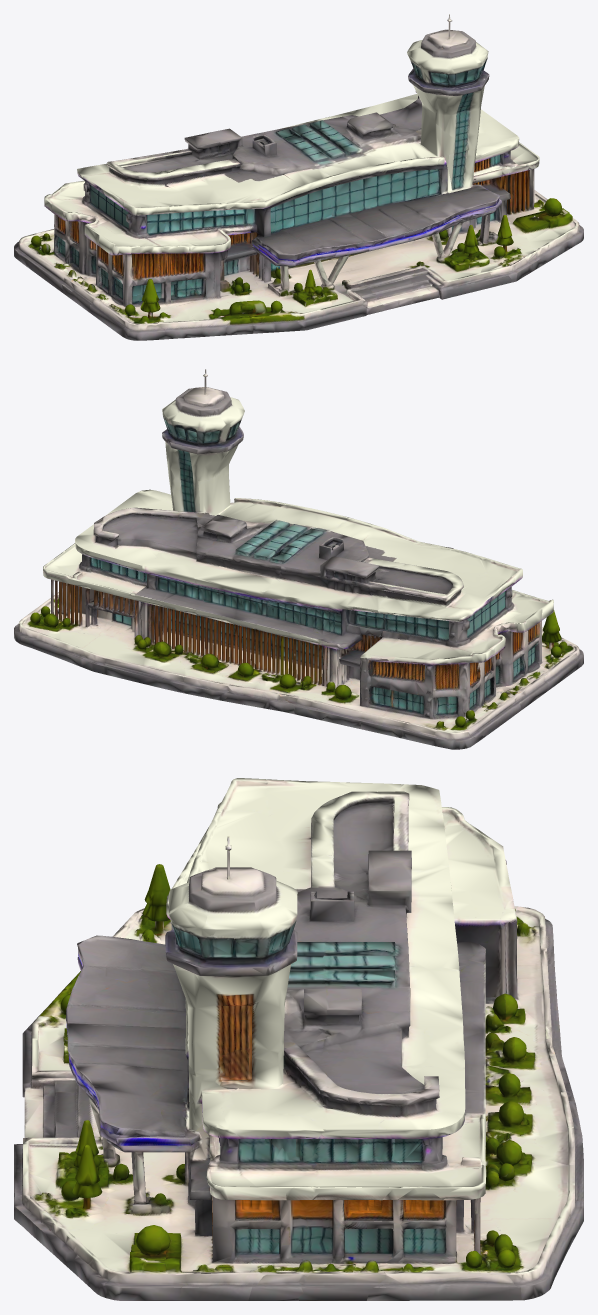
The model's file is neon-sky-terminal.glb.
3 renders of one model, top to bottom at view 1: azimuth 30°, elevation 25°; view 2: azimuth 150°, elevation 25°; view 3: azimuth 270°, elevation 25°, orthographic. The views are drawn at different scales.
Size of the model in its own units: 1.9 by 0.8982 by 1.22.
1 material, 1 textured.
